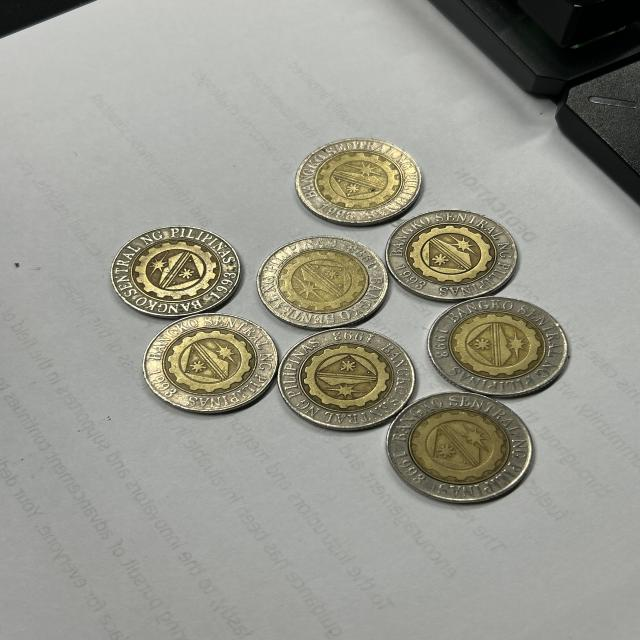10_Old_Back: (397, 398, 529, 504), (435, 300, 559, 393), (152, 314, 272, 408), (122, 229, 235, 319), (271, 238, 383, 328), (292, 336, 403, 423), (302, 140, 414, 223), (397, 209, 506, 291)
